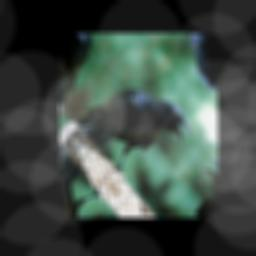Crow: (66, 52, 198, 206)
